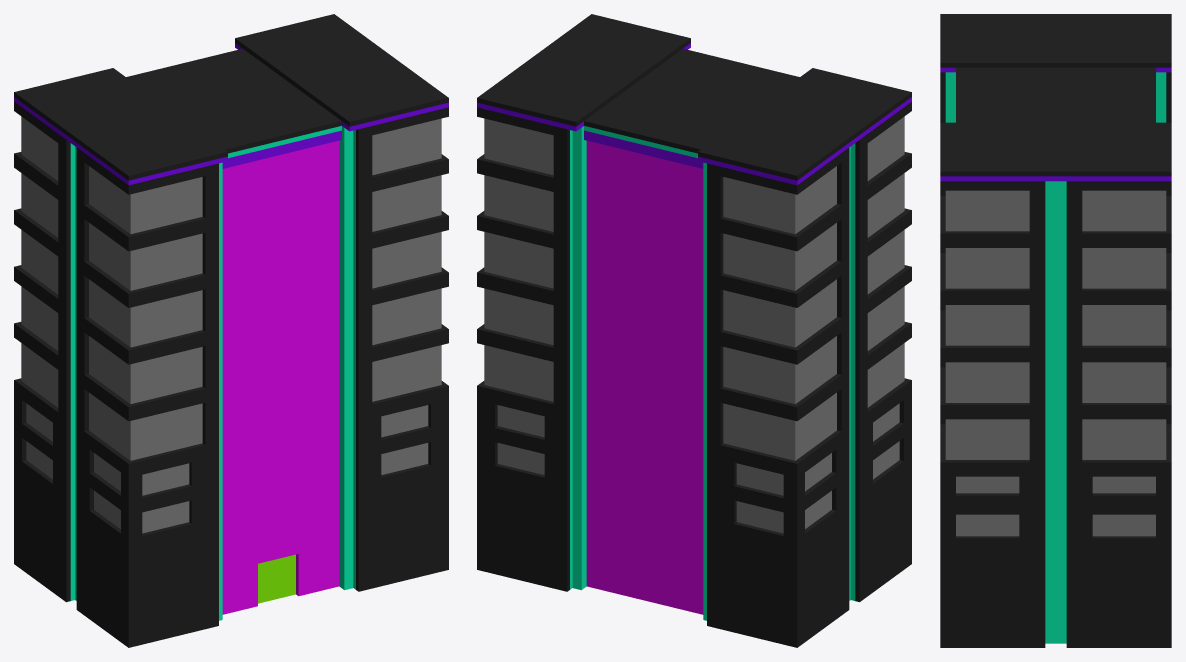
Rendered from H_Building.obj.
3 views of the same model, side by side, from view 1: azimuth 30°, elevation 25°; view 2: azimuth 150°, elevation 25°; view 3: azimuth 270°, elevation 25° (orthographic).
Bounding box in the file's own units: 7.1 × 10 × 4.4.
1 material, 1 textured.
